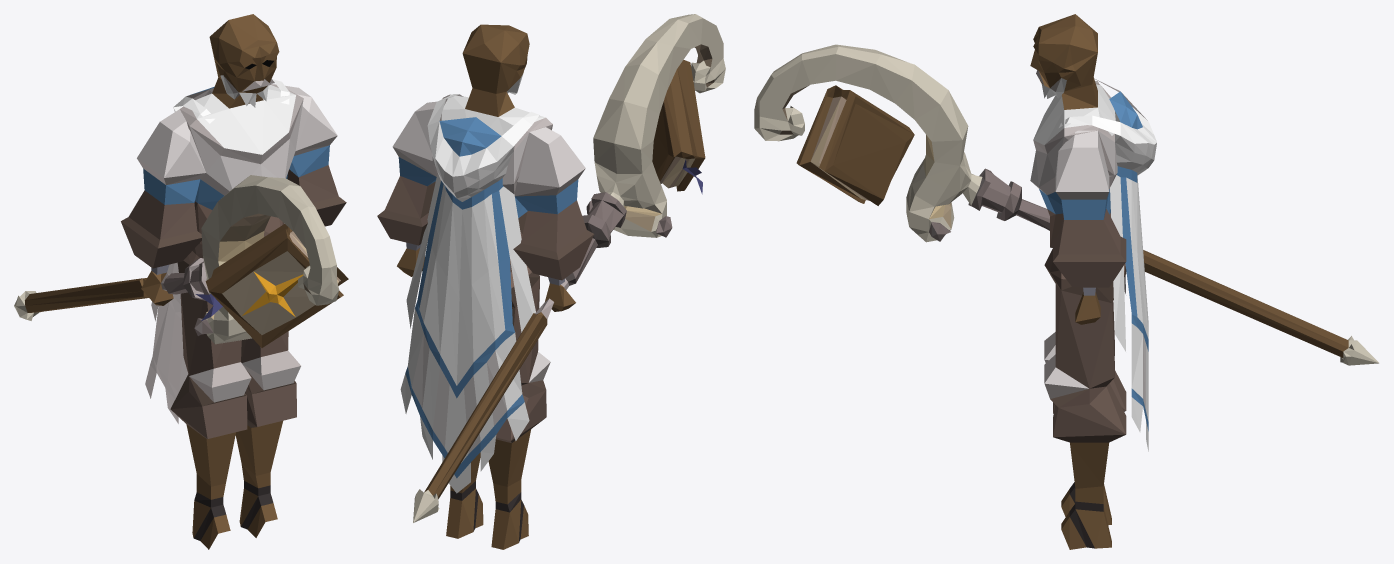
Rendered from myths-guild.gltf.
The picture shows the model from 3 angles, left to right: view 1: azimuth 30°, elevation 25°; view 2: azimuth 150°, elevation 25°; view 3: azimuth 270°, elevation 25°; orthographic projection. The views are drawn at different scales.
Bounding box in the file's own units: 91 × 201 × 222.
Materials: 1 (1 with a texture image).
